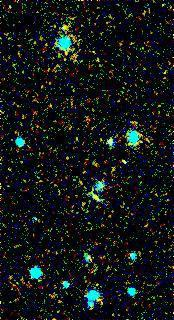star: (48, 11, 78, 41)
